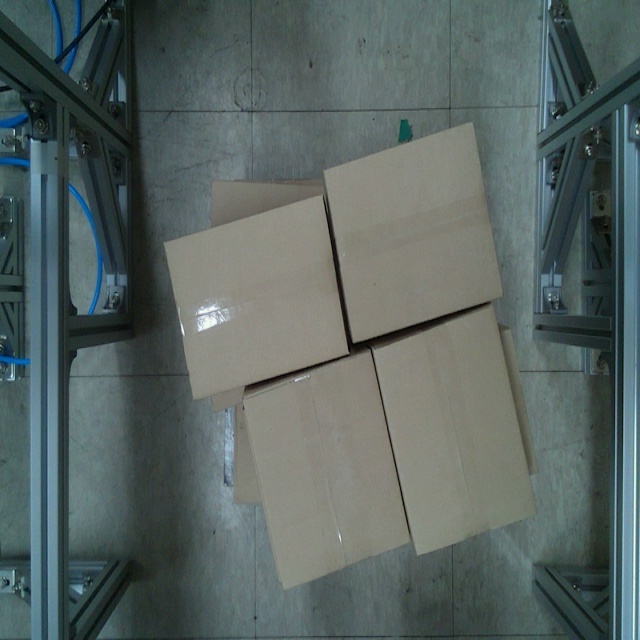box: (370, 299, 539, 560), (320, 117, 509, 347), (241, 349, 412, 592), (165, 193, 346, 400)
